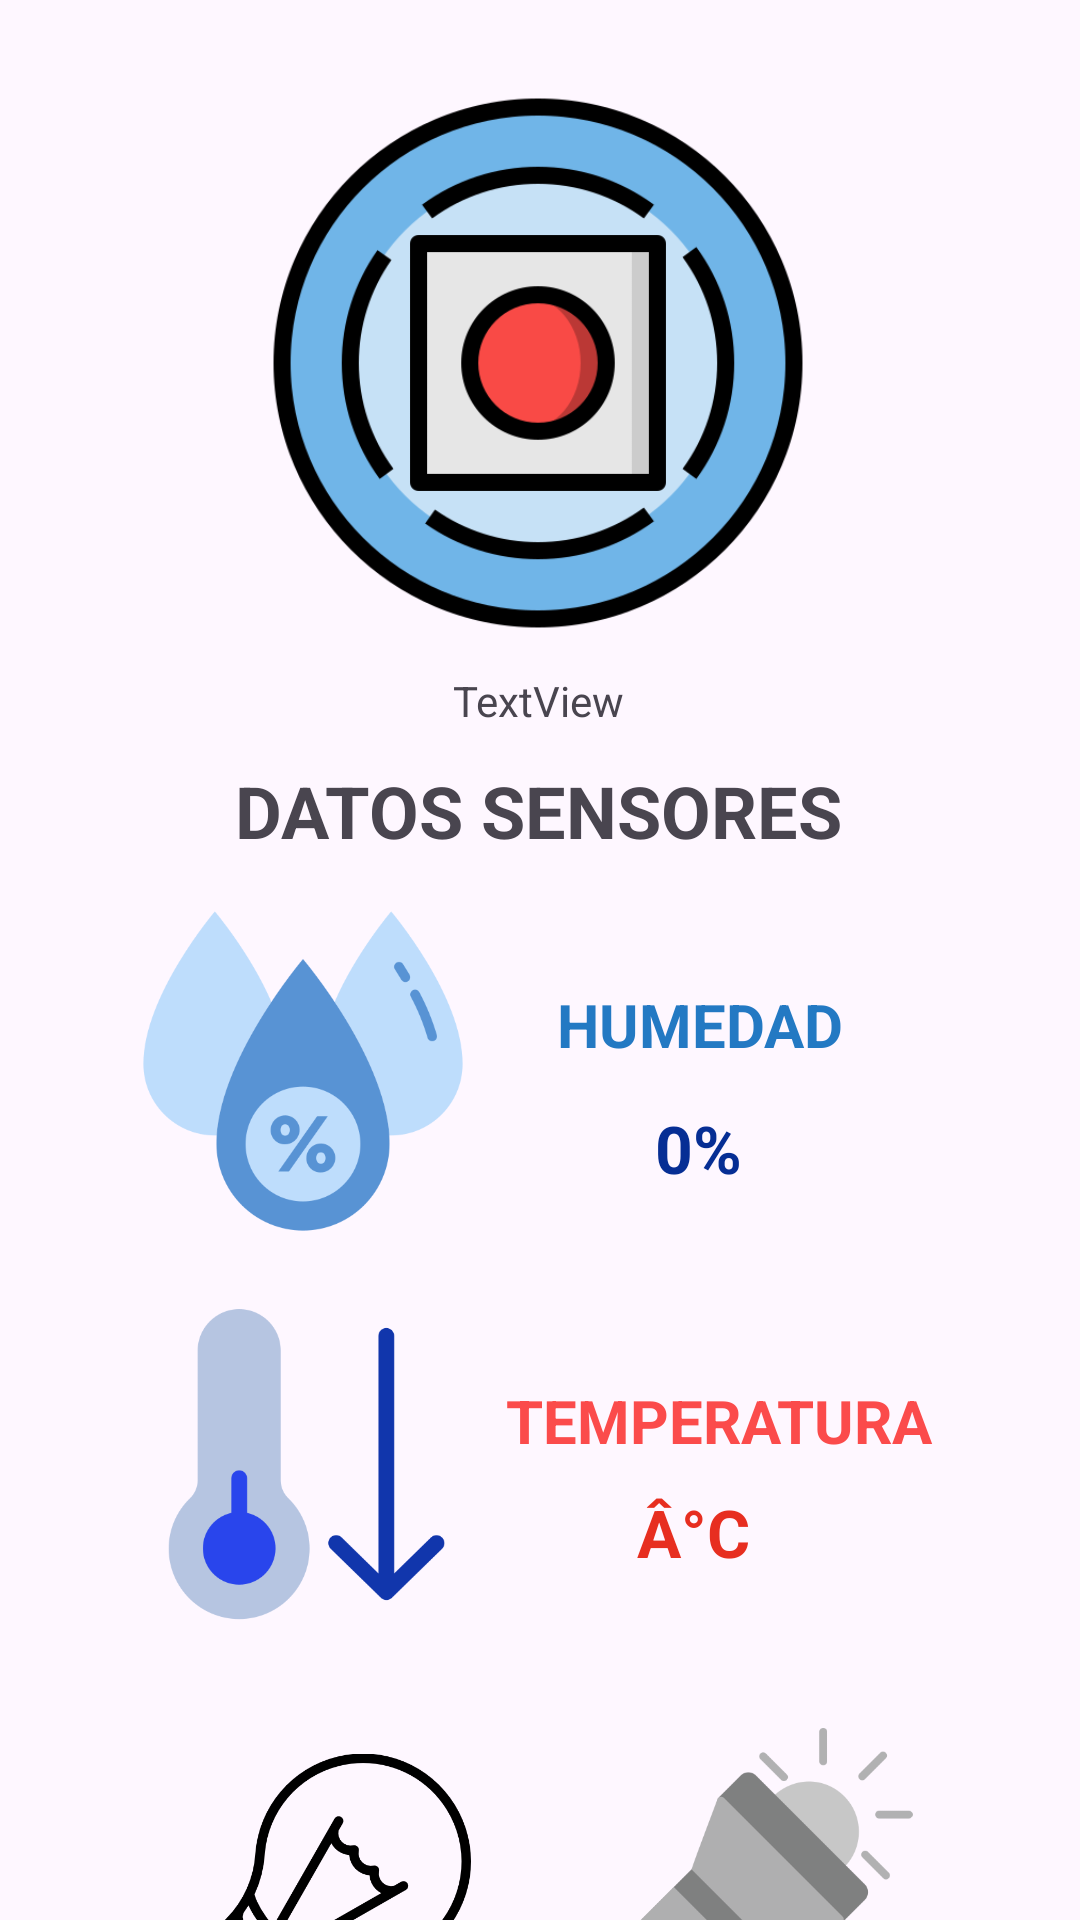

Where to tap for icons on this 1080 x 1920 app screen, as [x,y]:
tempbaja: [307,1464]
